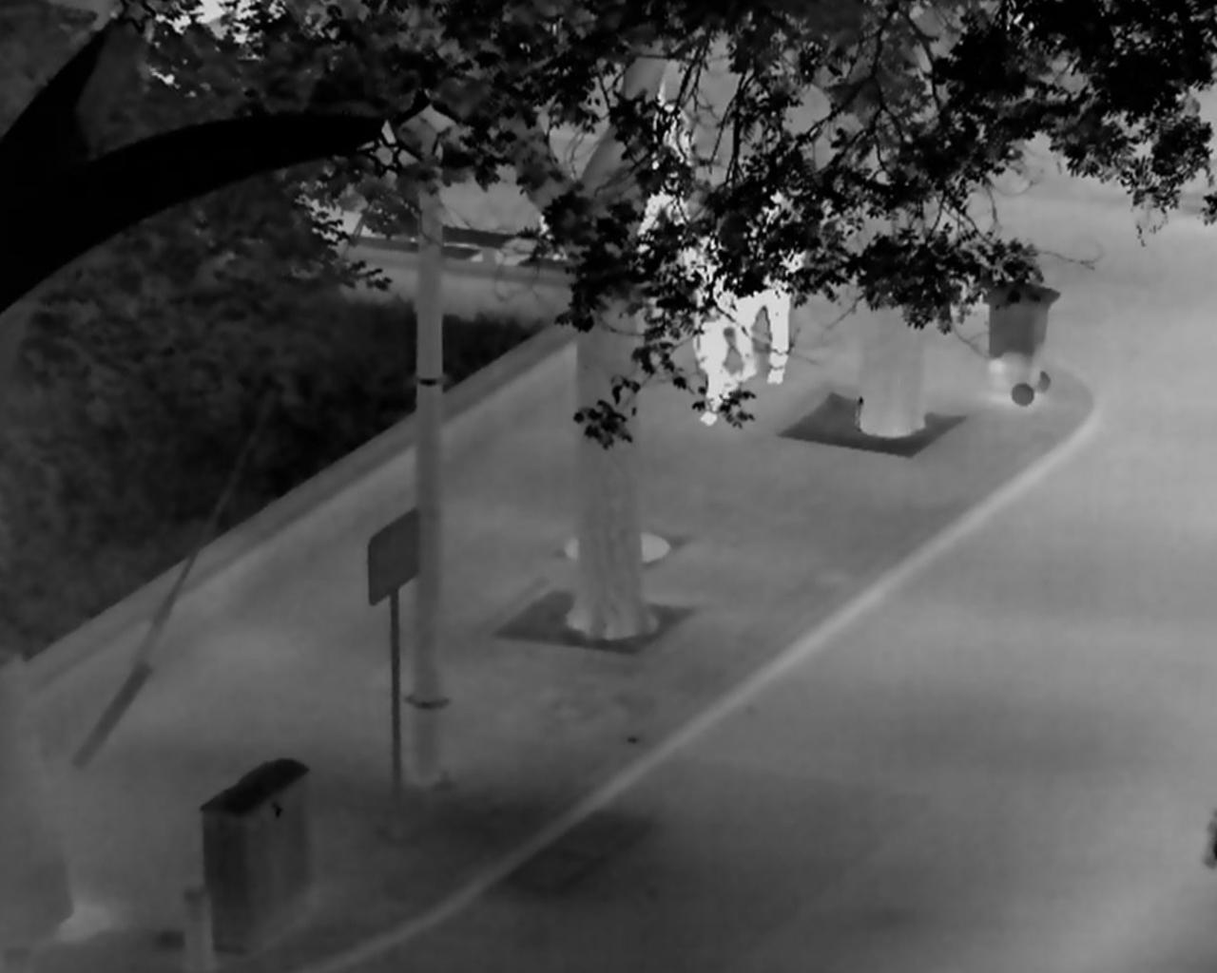person: (733, 181, 806, 385), (680, 219, 738, 427), (636, 91, 693, 258)
